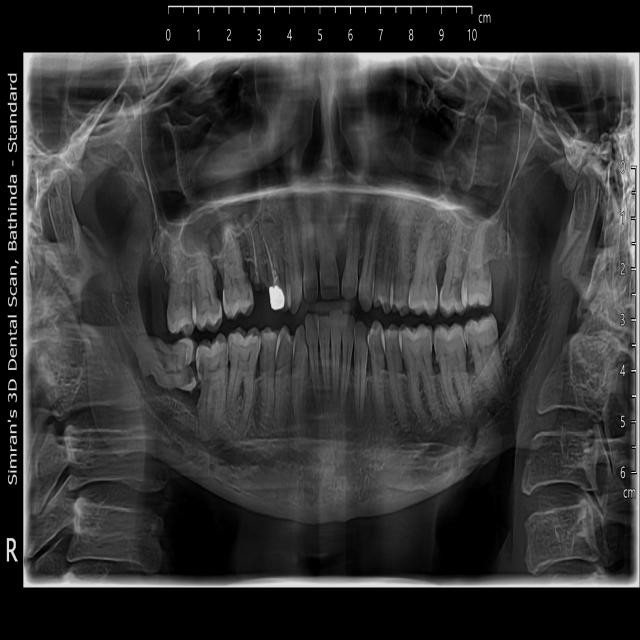Caries: (193, 284, 221, 333), (442, 265, 468, 312), (462, 266, 492, 306), (410, 273, 440, 310), (252, 284, 268, 309)
Crown: (269, 287, 286, 311)
Filling: (197, 335, 229, 382), (173, 338, 197, 390)
Root Canal Treatment: (259, 230, 287, 309), (242, 213, 268, 284)
impacted tooth: (140, 339, 199, 395)
